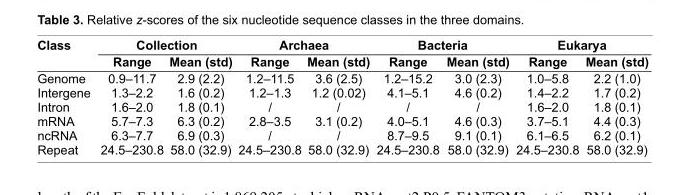table: (36, 37, 647, 156)
table column: (94, 37, 165, 156), (372, 37, 442, 156), (442, 37, 512, 156), (165, 37, 234, 156), (234, 37, 303, 156), (303, 37, 372, 156), (512, 37, 581, 156), (581, 37, 647, 156), (36, 37, 94, 156)
table column header: (36, 37, 647, 69)
table row: (36, 52, 647, 69), (36, 69, 647, 85), (36, 37, 647, 52), (36, 127, 647, 142), (36, 85, 647, 99), (36, 99, 647, 113), (36, 113, 647, 127), (36, 142, 647, 156)
table spanning cell: (94, 37, 234, 52), (372, 37, 512, 52), (234, 37, 372, 52), (512, 37, 647, 52), (36, 37, 94, 69)
